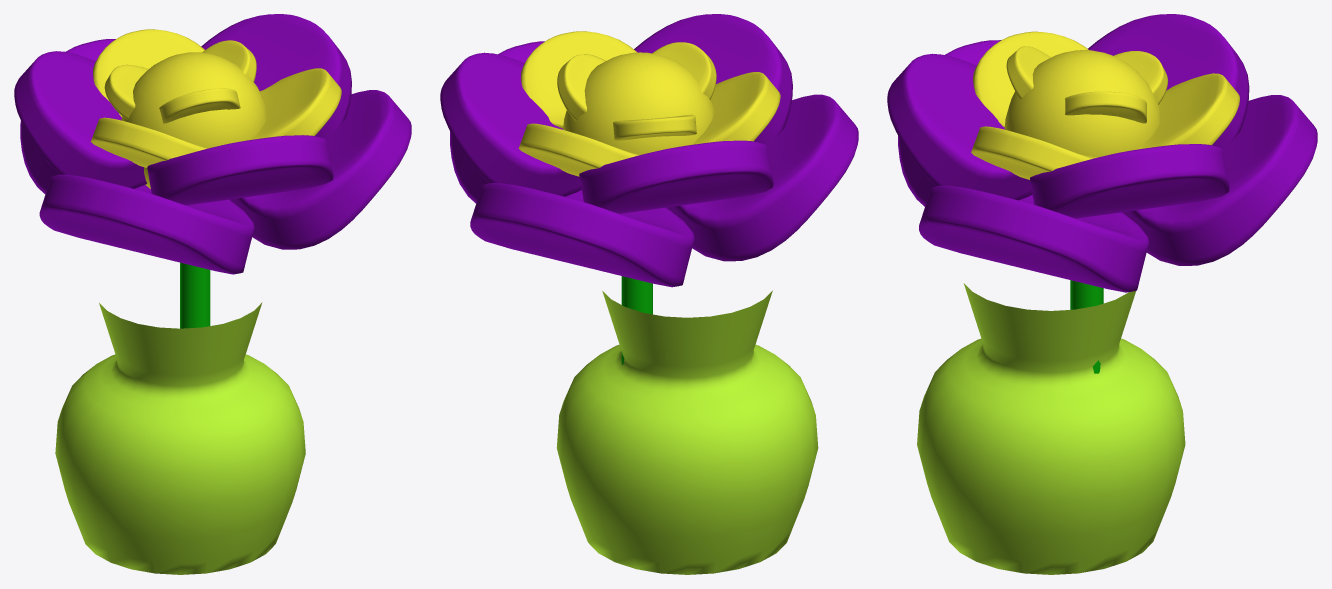
File: bakuchiol5.glb
3 views of the same model, side by side, from view 1: azimuth 30°, elevation 25°; view 2: azimuth 150°, elevation 25°; view 3: azimuth 270°, elevation 25° (orthographic). The views are drawn at different scales.
Size of the model in its own units: 0.3924 by 0.4891 by 0.3859.
